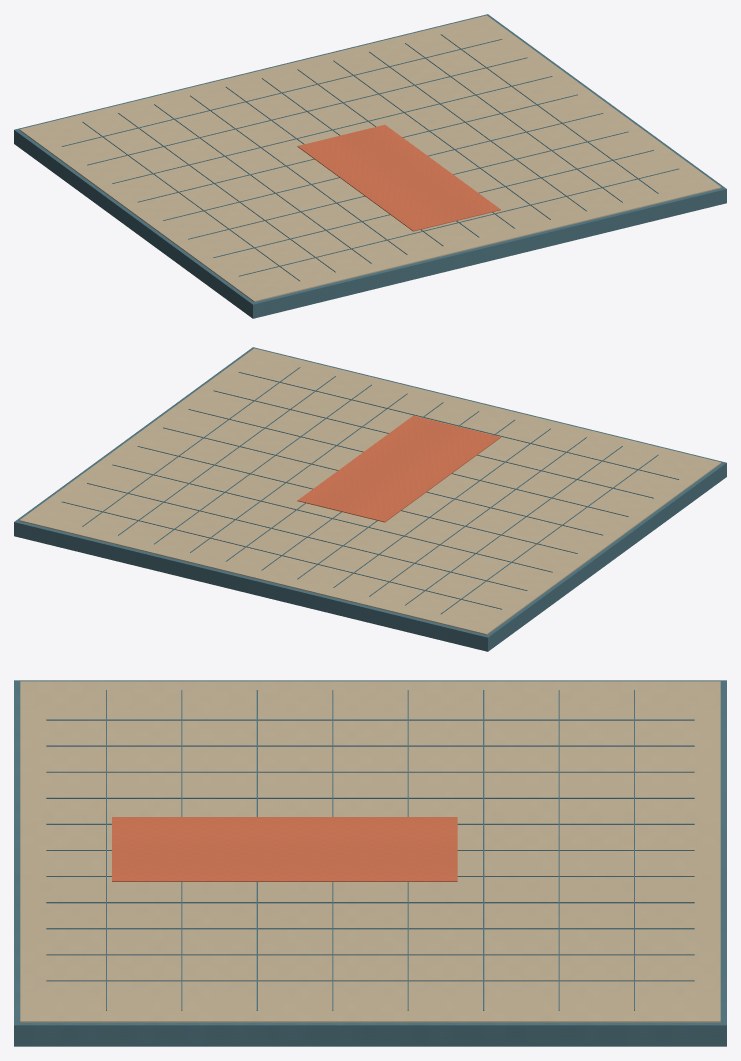
Rendered from atlas100-s042-a07.glb.
3 views of the same model, one above another, from view 1: azimuth 30°, elevation 25°; view 2: azimuth 150°, elevation 25°; view 3: azimuth 270°, elevation 25° (orthographic). The views are drawn at different scales.
Visible parts, largest first — view 1: atlas100-s042-a07:part-001, atlas100-s042-a07:part-000, atlas100-s042-a07:part-021, atlas100-s042-a07:part-020, atlas100-s042-a07:part-013, atlas100-s042-a07:part-014, atlas100-s042-a07:part-015, atlas100-s042-a07:part-018, atlas100-s042-a07:part-017, atlas100-s042-a07:part-019, atlas100-s042-a07:part-016; view 2: atlas100-s042-a07:part-001, atlas100-s042-a07:part-000, atlas100-s042-a07:part-021, atlas100-s042-a07:part-015, atlas100-s042-a07:part-013, atlas100-s042-a07:part-020, atlas100-s042-a07:part-014, atlas100-s042-a07:part-016, atlas100-s042-a07:part-017, atlas100-s042-a07:part-018, atlas100-s042-a07:part-019; view 3: atlas100-s042-a07:part-001, atlas100-s042-a07:part-000, atlas100-s042-a07:part-021, atlas100-s042-a07:part-002, atlas100-s042-a07:part-003, atlas100-s042-a07:part-005, atlas100-s042-a07:part-004, atlas100-s042-a07:part-009, atlas100-s042-a07:part-010, atlas100-s042-a07:part-011, atlas100-s042-a07:part-012, atlas100-s042-a07:part-014 (+2 smaller).
Boxes of the visible parts, x1=… form: atlas100-s042-a07:part-001: x1=19, y1=15, x2=721, y2=301; atlas100-s042-a07:part-000: x1=14, y1=14, x2=726, y2=318; atlas100-s042-a07:part-021: x1=297, y1=124, x2=500, y2=231; atlas100-s042-a07:part-020: x1=239, y1=168, x2=678, y2=276; atlas100-s042-a07:part-013: x1=62, y1=39, x2=502, y2=146; atlas100-s042-a07:part-014: x1=87, y1=57, x2=527, y2=165; atlas100-s042-a07:part-015: x1=112, y1=76, x2=552, y2=183; atlas100-s042-a07:part-018: x1=188, y1=131, x2=628, y2=239; atlas100-s042-a07:part-017: x1=163, y1=113, x2=603, y2=220; atlas100-s042-a07:part-019: x1=213, y1=150, x2=653, y2=257; atlas100-s042-a07:part-016: x1=138, y1=94, x2=577, y2=202; atlas100-s042-a07:part-001: x1=19, y1=348, x2=721, y2=634; atlas100-s042-a07:part-000: x1=14, y1=347, x2=726, y2=651; atlas100-s042-a07:part-021: x1=297, y1=415, x2=500, y2=522; atlas100-s042-a07:part-015: x1=112, y1=464, x2=552, y2=572; atlas100-s042-a07:part-013: x1=62, y1=501, x2=501, y2=609; atlas100-s042-a07:part-020: x1=238, y1=372, x2=678, y2=479; atlas100-s042-a07:part-014: x1=87, y1=483, x2=527, y2=590; atlas100-s042-a07:part-016: x1=137, y1=446, x2=577, y2=553; atlas100-s042-a07:part-017: x1=163, y1=427, x2=602, y2=535; atlas100-s042-a07:part-018: x1=188, y1=409, x2=628, y2=516; atlas100-s042-a07:part-019: x1=213, y1=390, x2=653, y2=498; atlas100-s042-a07:part-001: x1=20, y1=681, x2=720, y2=1022; atlas100-s042-a07:part-000: x1=14, y1=680, x2=726, y2=1046; atlas100-s042-a07:part-021: x1=112, y1=817, x2=457, y2=881; atlas100-s042-a07:part-002: x1=46, y1=719, x2=694, y2=720; atlas100-s042-a07:part-003: x1=46, y1=745, x2=694, y2=746; atlas100-s042-a07:part-005: x1=46, y1=797, x2=694, y2=798; atlas100-s042-a07:part-004: x1=46, y1=771, x2=694, y2=772; atlas100-s042-a07:part-009: x1=46, y1=902, x2=694, y2=903; atlas100-s042-a07:part-010: x1=46, y1=928, x2=694, y2=929; atlas100-s042-a07:part-011: x1=46, y1=954, x2=694, y2=955; atlas100-s042-a07:part-012: x1=46, y1=980, x2=694, y2=981; atlas100-s042-a07:part-014: x1=558, y1=690, x2=559, y2=1010.
Bounding box in the file's own units: 11.9 × 0.404 × 10.4.
3 materials, 3 textured.
